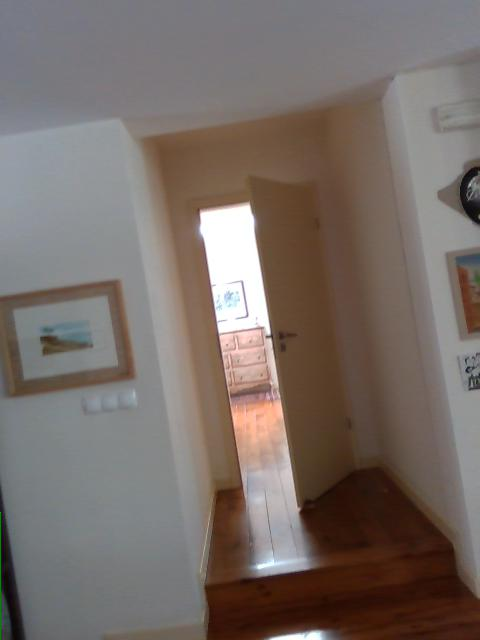semi_door: (191, 169, 358, 515)
